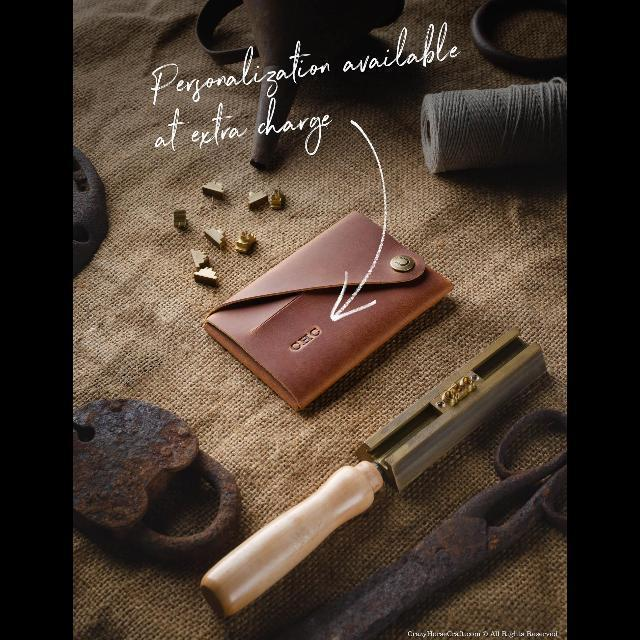wallet: (201, 208, 459, 412)
